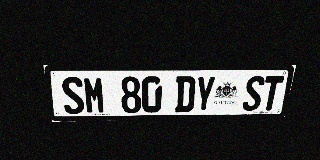0: (142, 76, 162, 113)
8: (120, 76, 141, 113)
D: (175, 76, 196, 112)
M: (82, 77, 106, 114)
S: (60, 77, 85, 114), (242, 76, 266, 111)
T: (260, 76, 284, 111)
Y: (194, 76, 216, 112)
